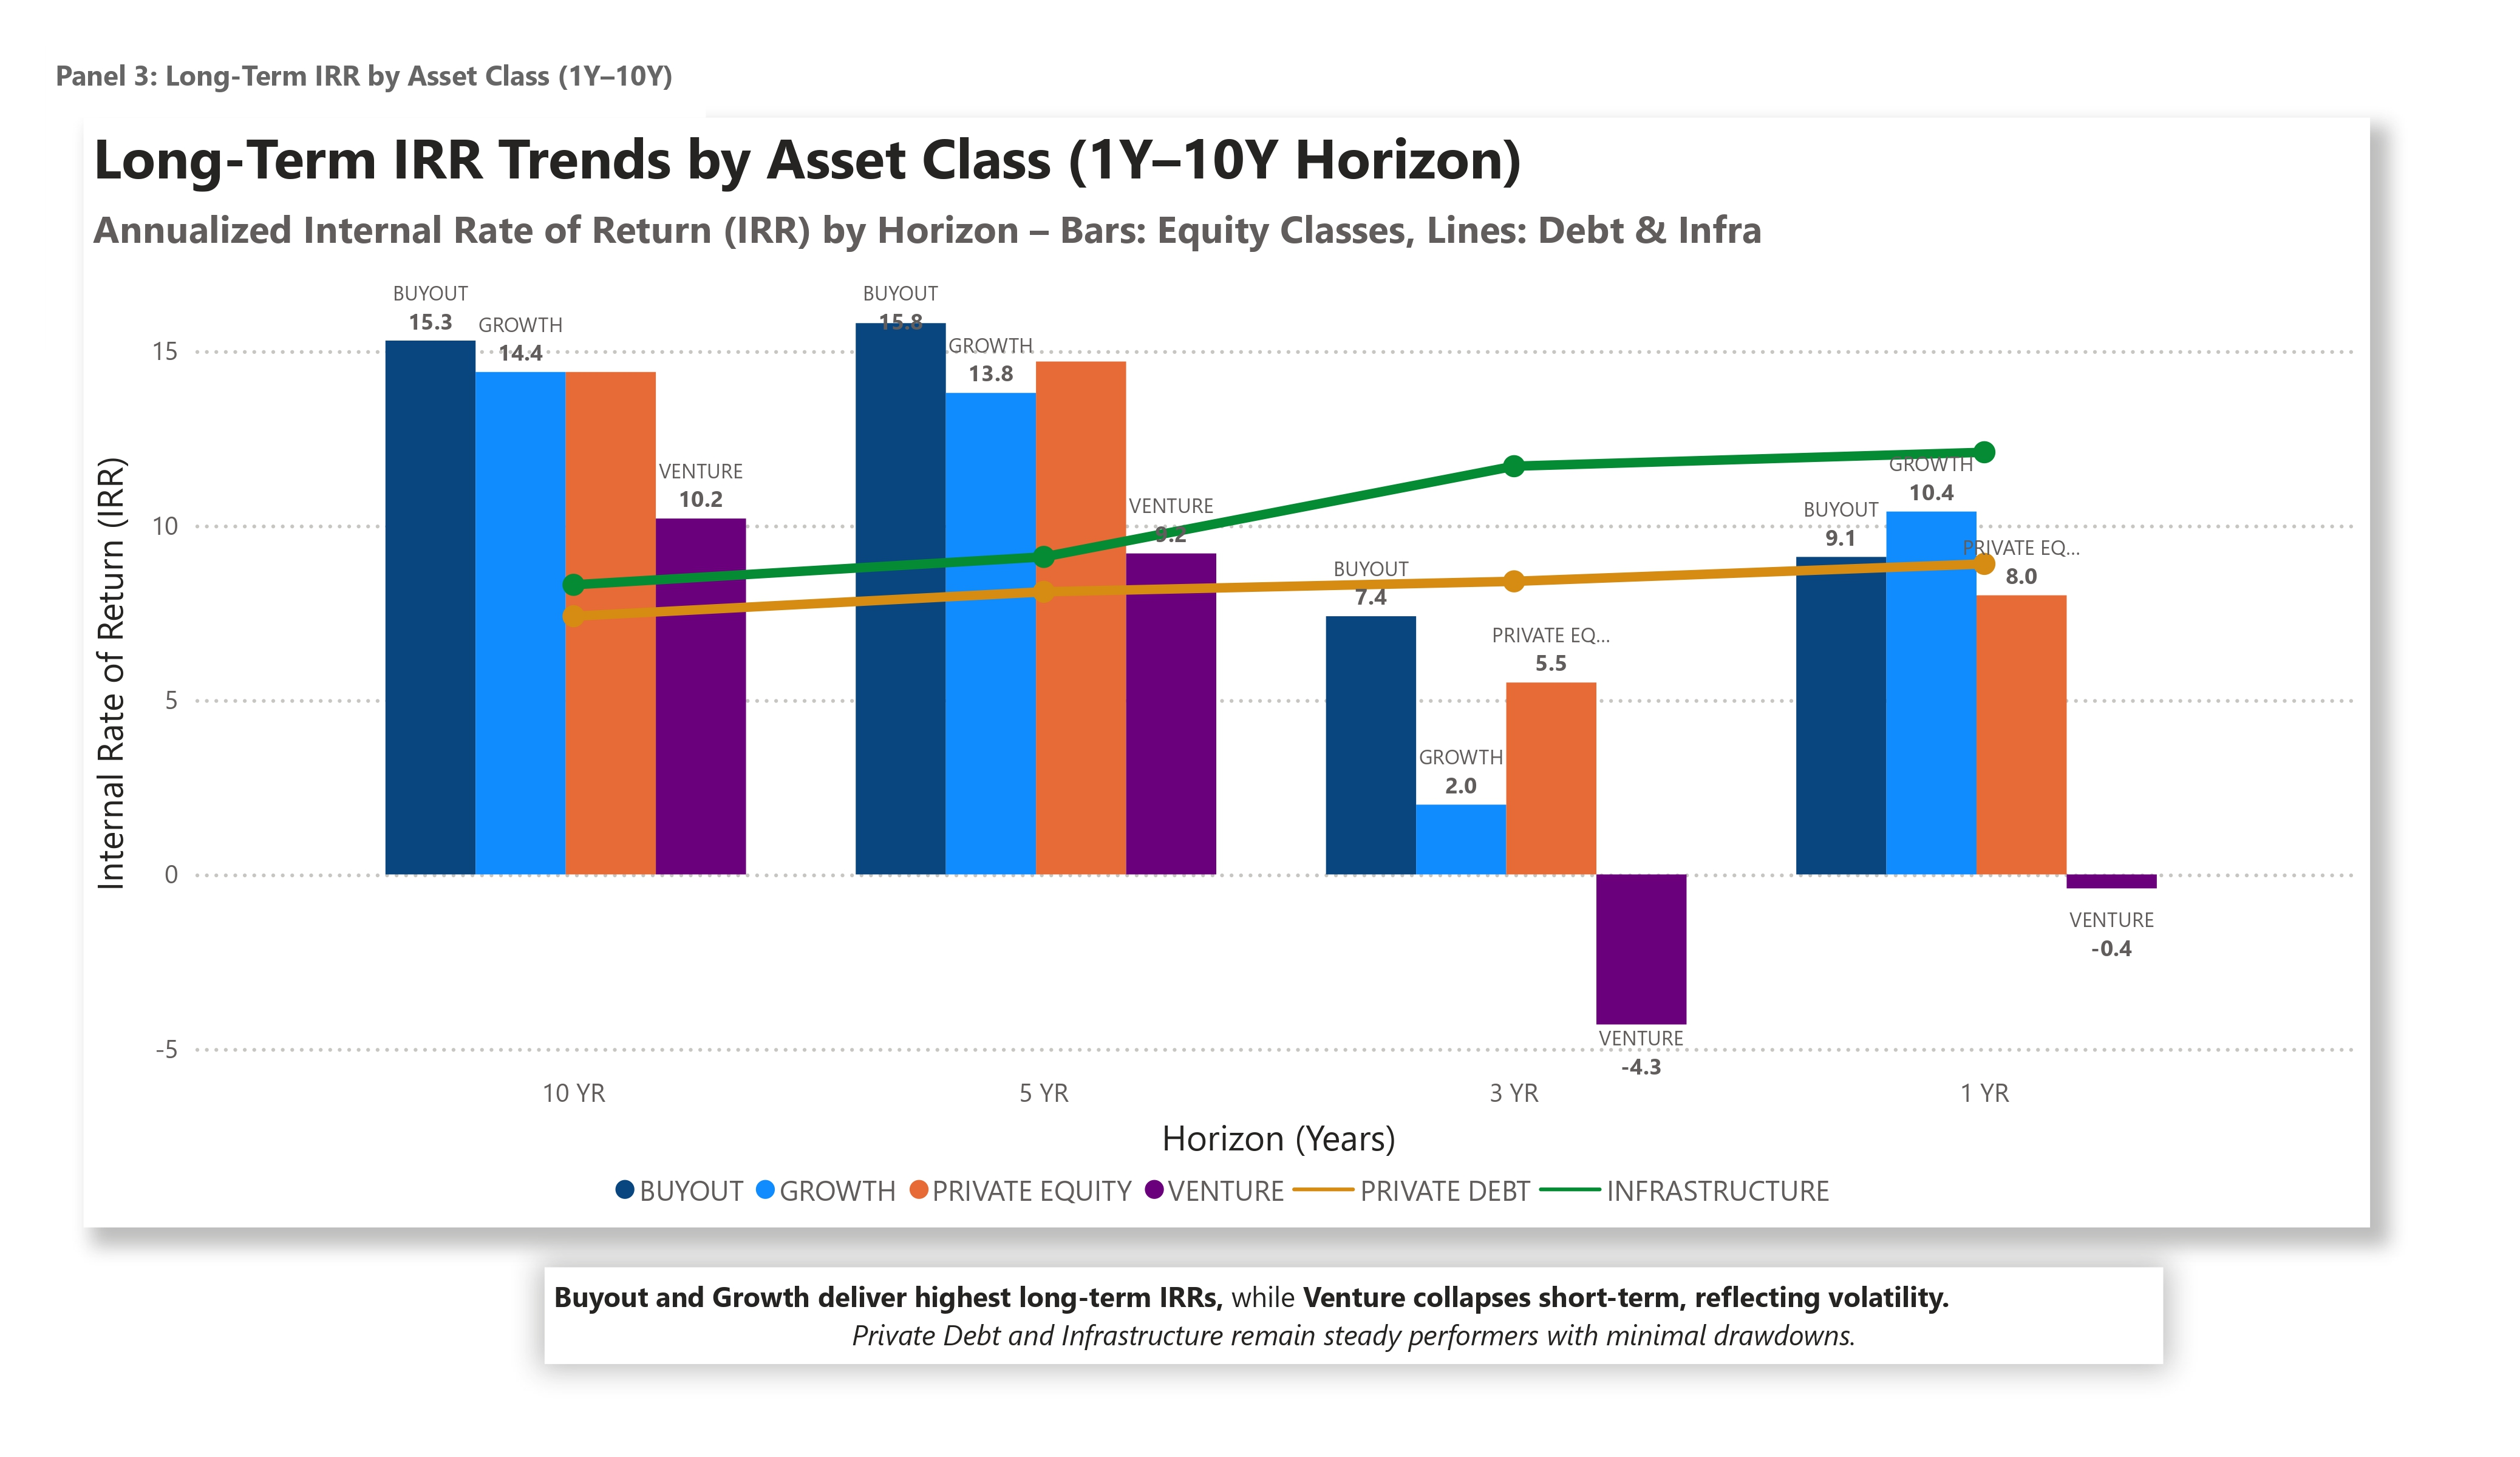

The dashboard page shown, as its layout file describes it:
{"tool":"powerbi","page":{"name":"panel-3_irr-trends-by-asset-class_1y-10y","canvas":[1280,720],"ordinal":8},"visuals":[{"type":"lineClusteredColumnComboChart","title":"Long-Term IRR Trends by Asset Class (1Y–10Y Horizon)","fields":{"Y2":["Sheet1.IRR_PrivateDebt","Sheet1.IRR_Infrastructure"],"Y":["Sum(Sheet1.IRR%)"],"Category":["HorizonTable.HORIZON"],"Series":["AssetClassIRR.ASSET CLASS"]},"box":[20,37.5,1205,585],"z":0},{"type":"textbox","box":[262.5,643.8,853.8,51.2],"z":1000},{"type":"textbox","box":[0,0,347.5,37.5],"z":2000}]}

Visuals, with their boxes on the page's 1280x720 design canvas (x1, y1, x2, y2). These are canvas units, not pixel positions in the 2520x1457 screenshot, which may show the page scaled, cropped or inside an application window:
"Long-Term IRR Trends by Asset Class (1Y–10Y Horizon)" lineClusteredColumnComboChart: <region>20, 38, 1225, 622</region>
textbox: <region>262, 644, 1116, 695</region>
textbox: <region>0, 0, 348, 38</region>
